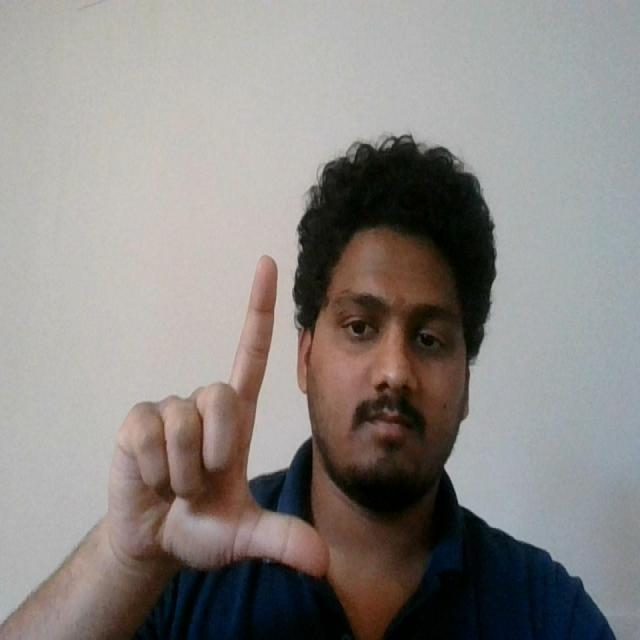IloveYou: (96, 242, 335, 587)
